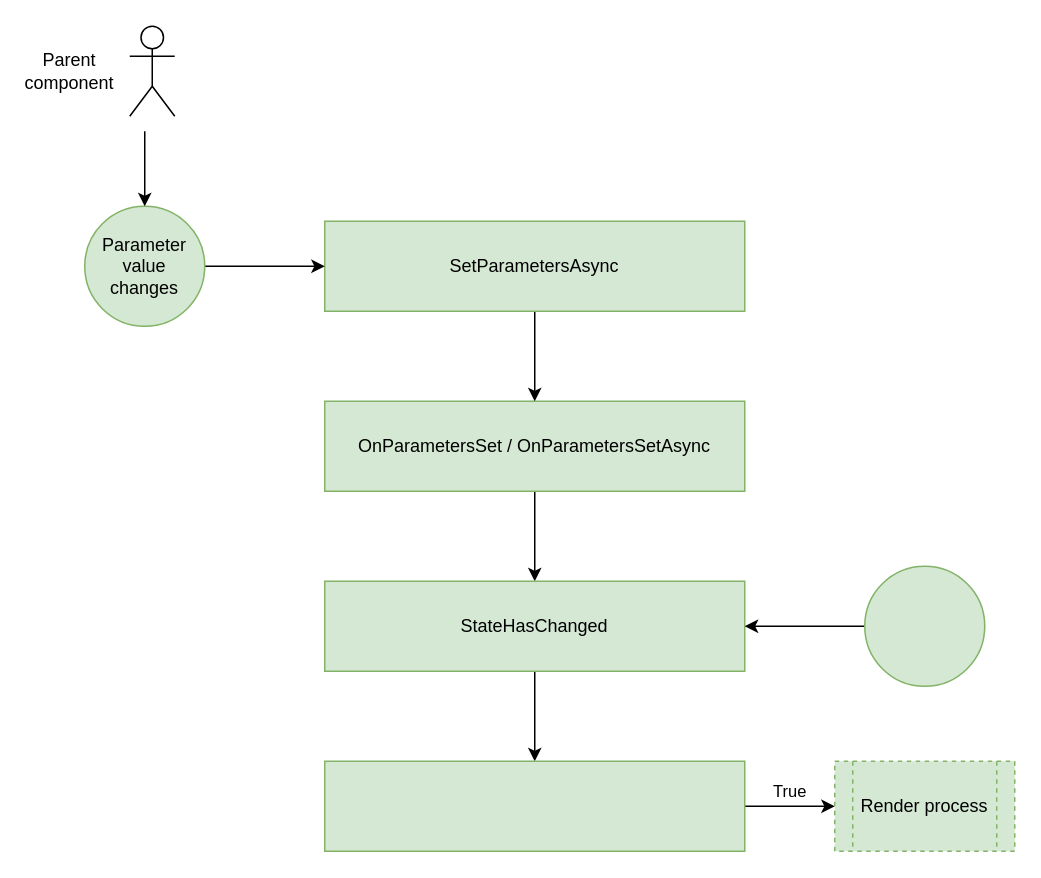
This 1041x878 diagram has some shape labels left out. The shapes that lost their labels are listed below. From the top down, each one's centre as x and y in pixels, then its label:
At (924,625): "User interaction".
At (534,805): "ShouldRender".
